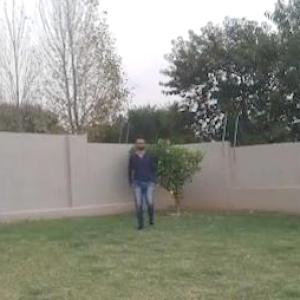follow: (132, 137, 156, 233)
